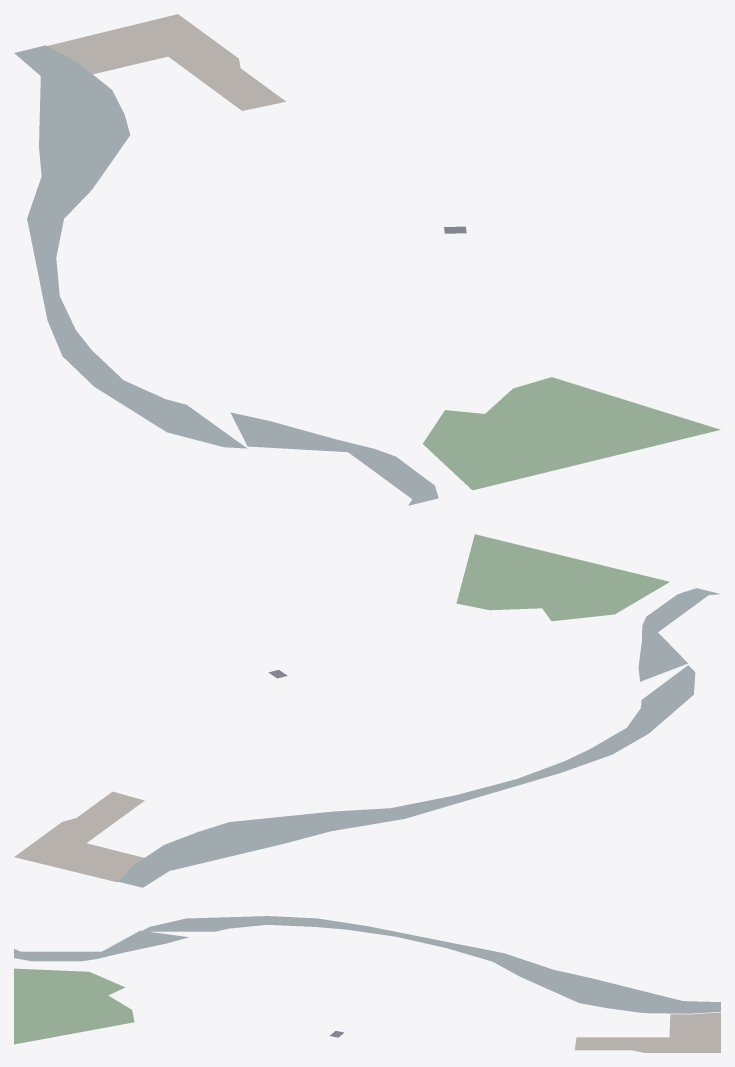
The model's file is 97_100_mid.glb.
3 renders of one model, top to bottom at view 1: azimuth 30°, elevation 25°; view 2: azimuth 150°, elevation 25°; view 3: azimuth 270°, elevation 25°, orthographic. The views are drawn at different scales.
Size of the model in its own units: 228 by 7.59 by 500.
